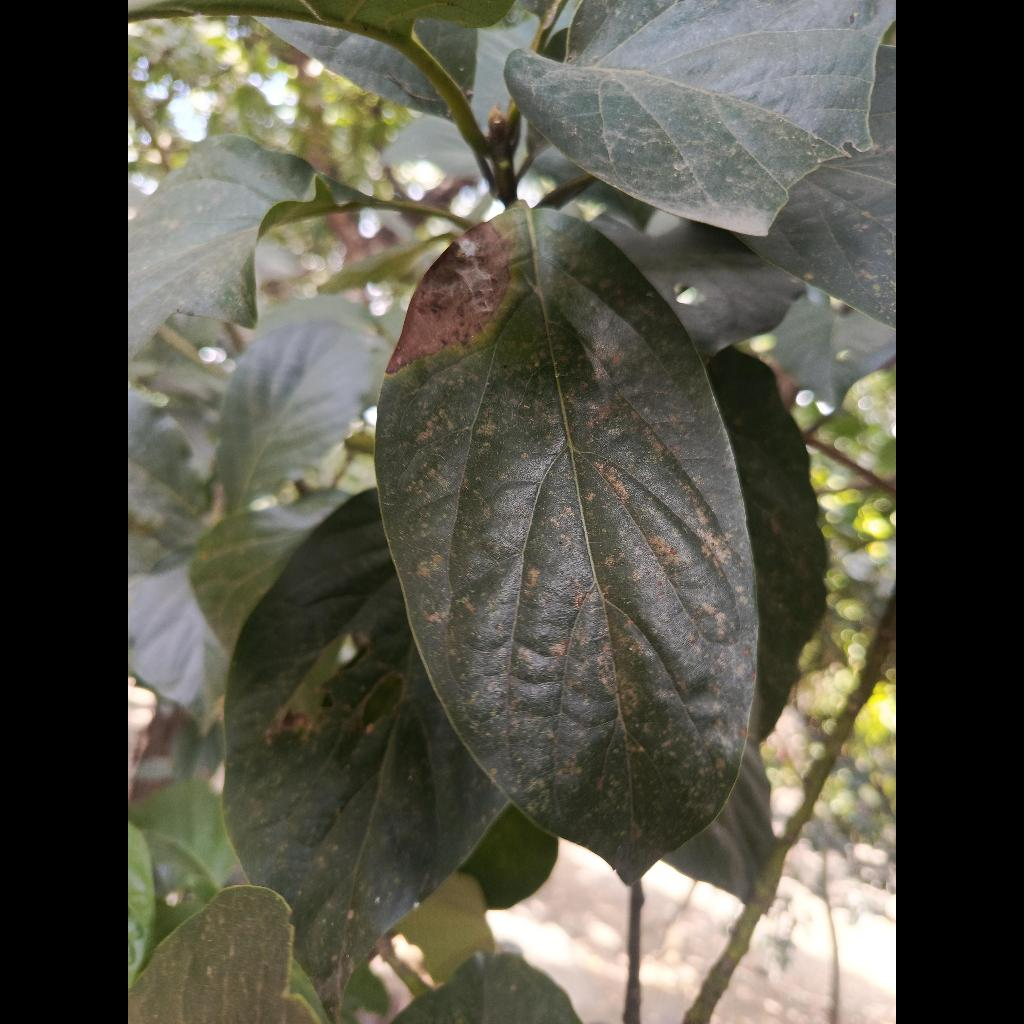antracnosis_hoja: (377, 207, 756, 881)
